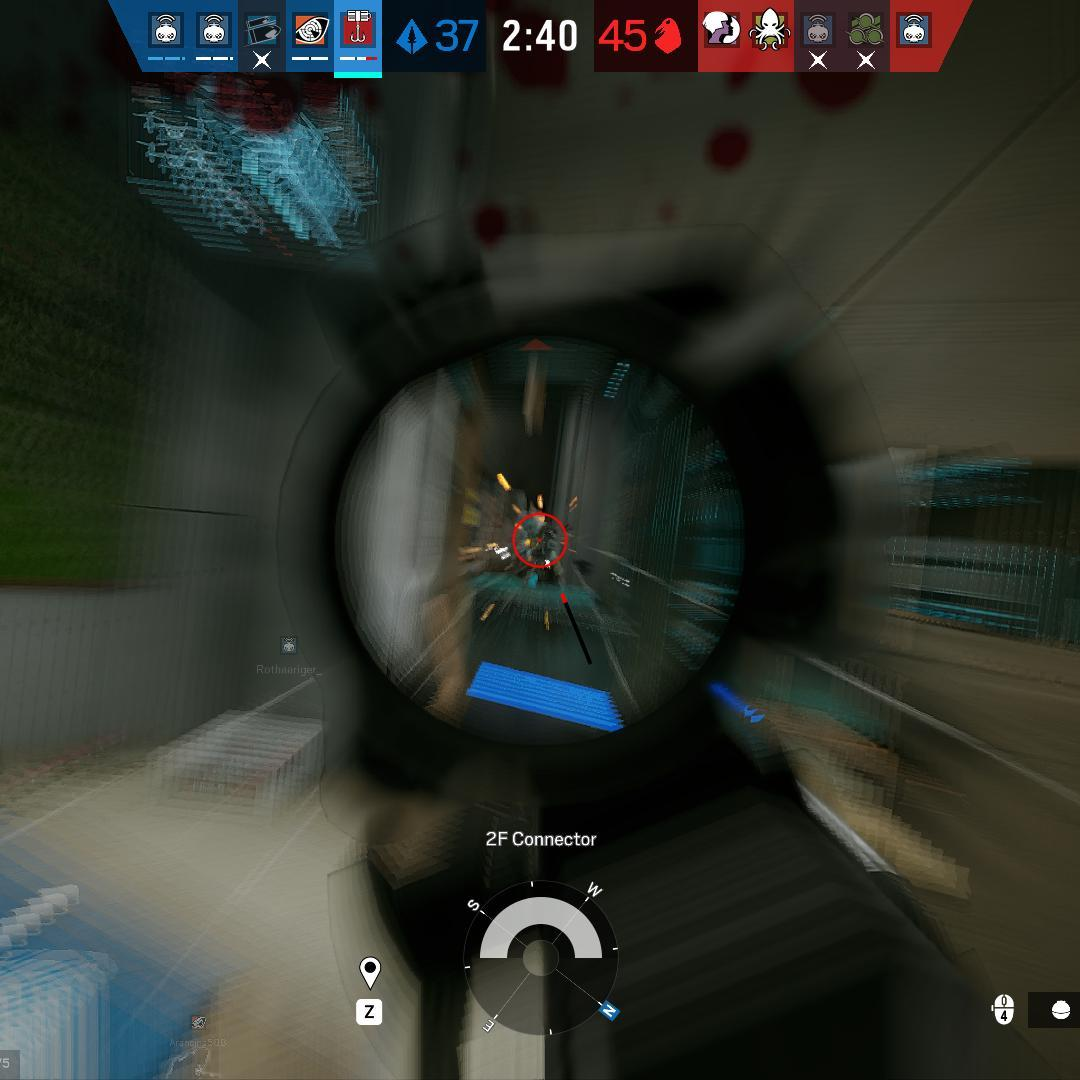Character: (514, 508, 569, 593)
Friend_label: (254, 634, 322, 677), (169, 1012, 231, 1051)
